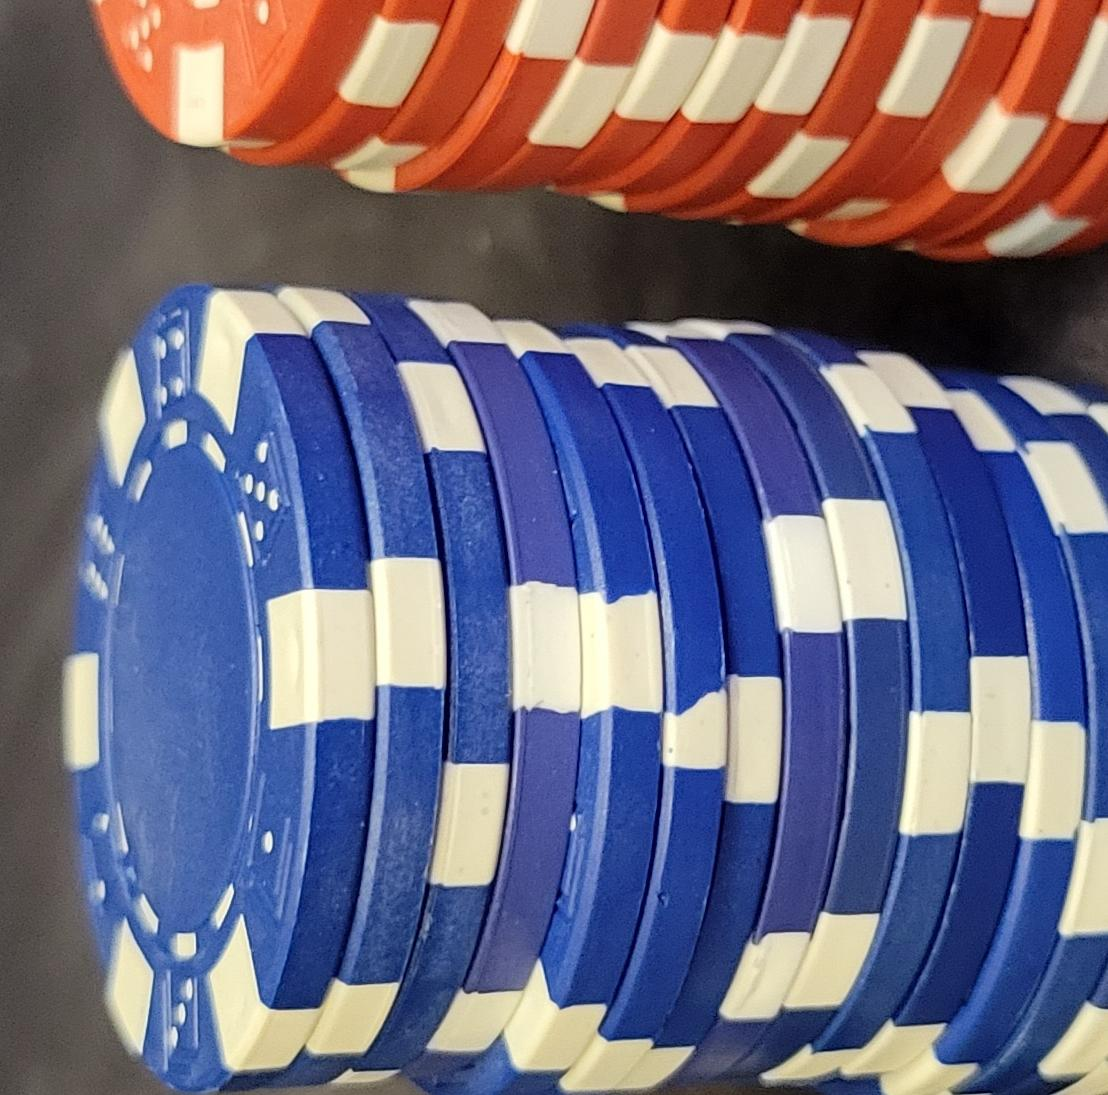Chip: (1, 311, 505, 1095)
